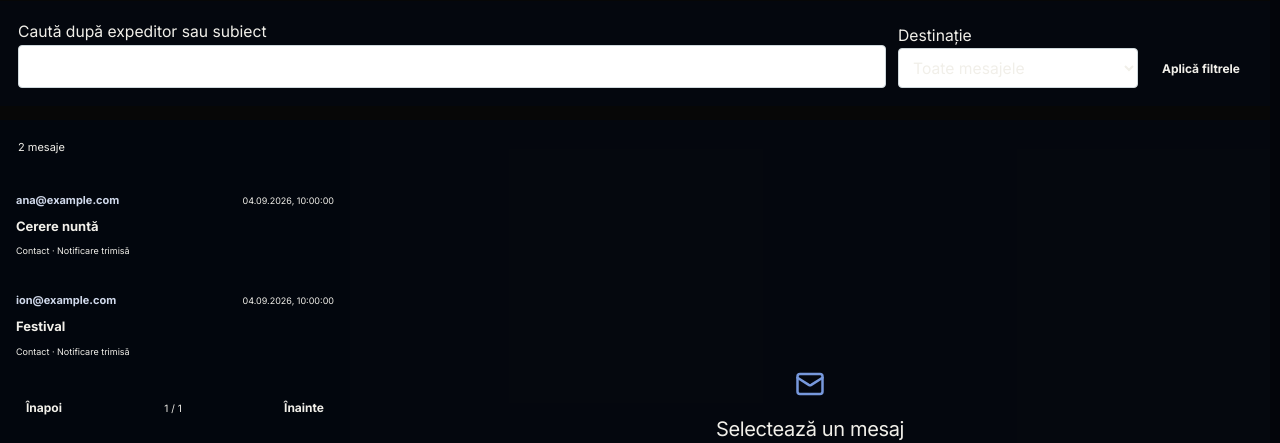
loads the safe list and renders message content as text
Expected: the text "Detalii private" is not shown
Click the button with aria-label "Deschide mesajul Cerere nuntă" at (68, 200), box x1=0 y1=174 x2=350 y2=275
(page scrolled)
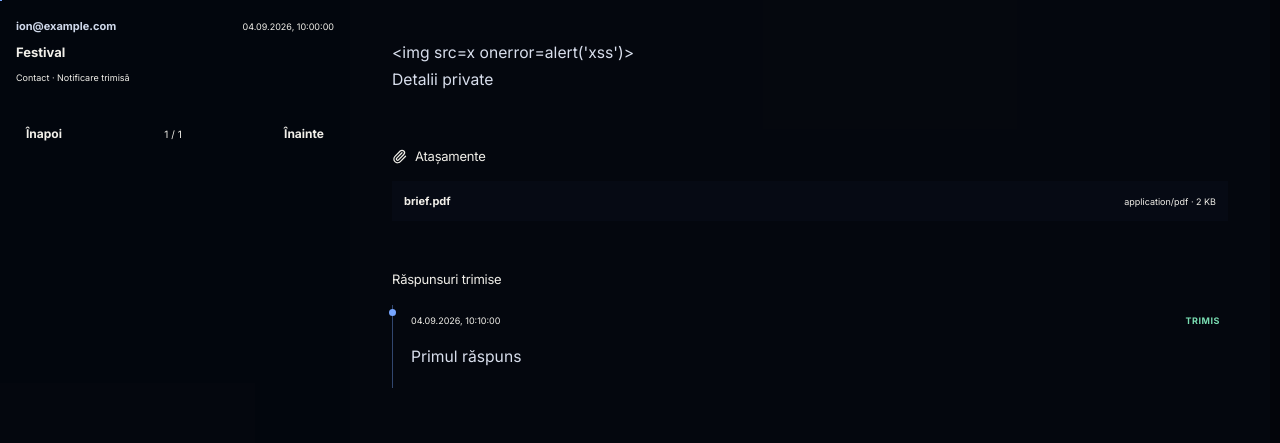
Result: the text "Detalii private" is shown at x1=392 y1=43 x2=634 y2=89
Result: the text "brief.pdf" is shown at x1=404 y1=192 x2=451 y2=210
Result: the text "Primul răspuns" is shown at x1=411 y1=347 x2=521 y2=366
